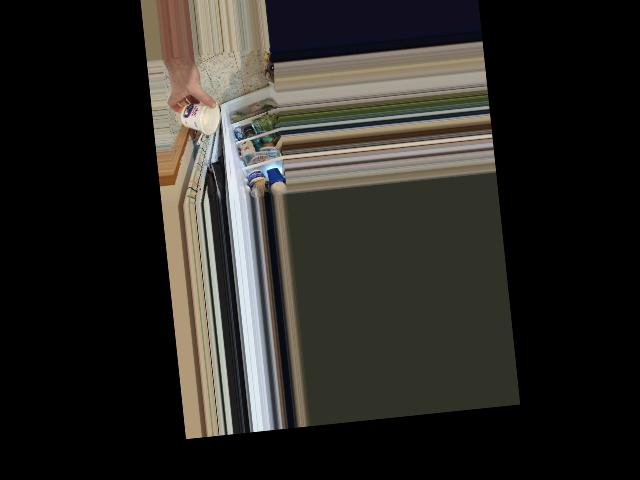cotage: (179, 98, 215, 140)
